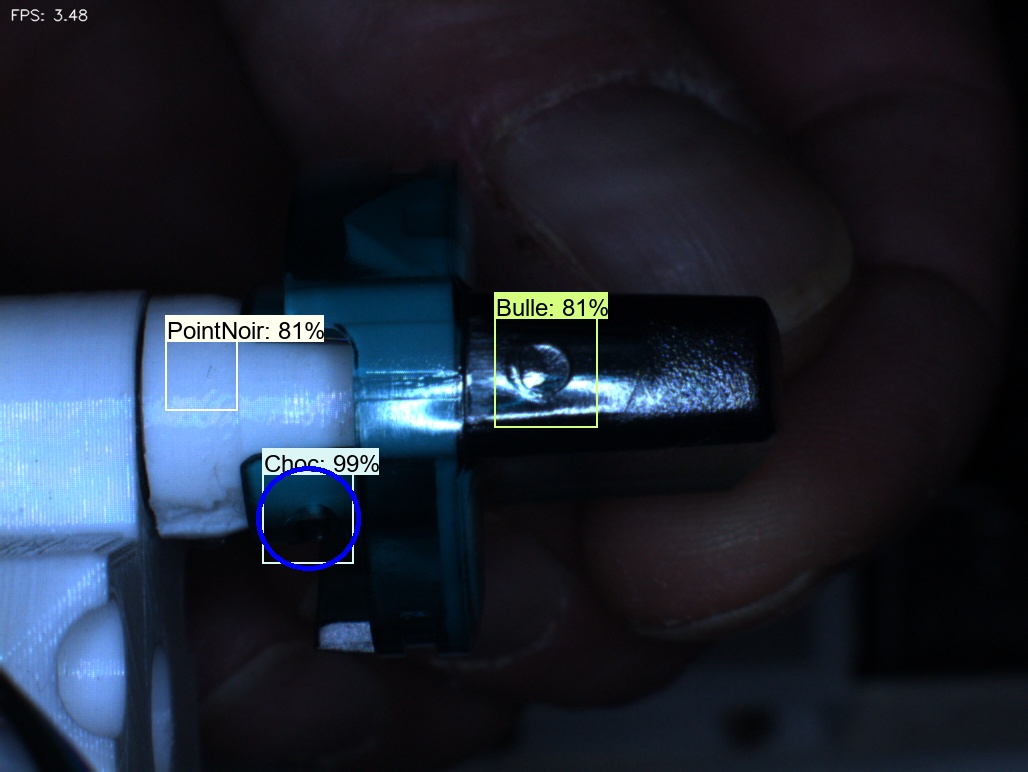DentOk: (324, 186, 393, 279)
